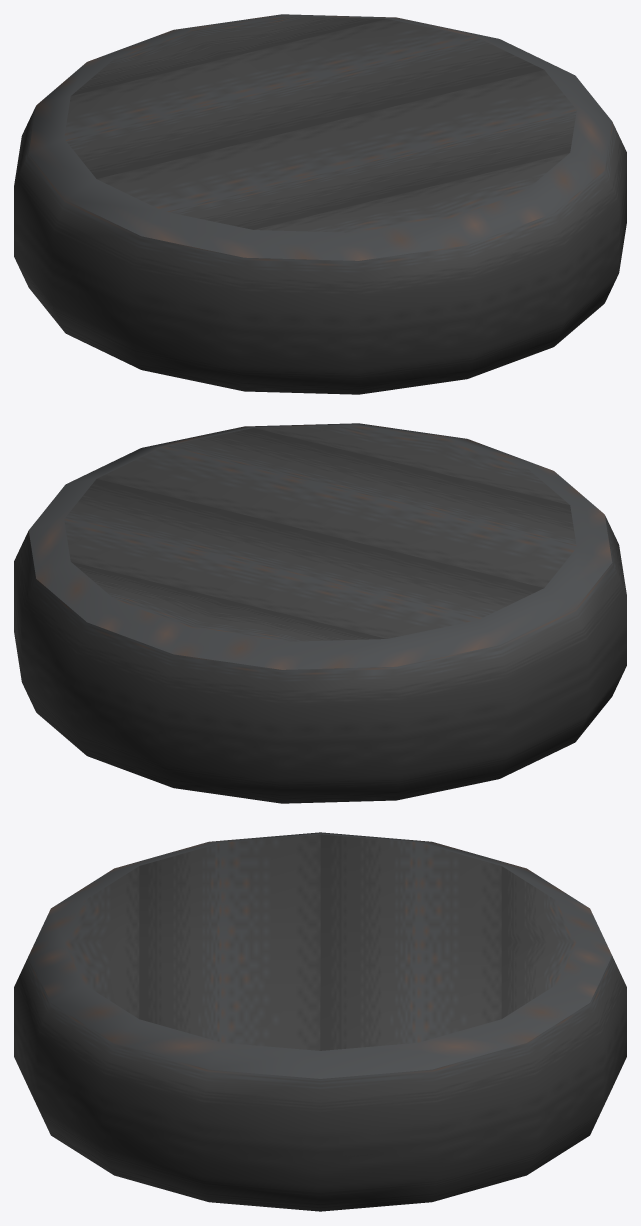
Rendered from food_ingredient_burger_trash.gltf.
The picture shows the model from 3 angles, top to bottom: view 1: azimuth 30°, elevation 25°; view 2: azimuth 150°, elevation 25°; view 3: azimuth 270°, elevation 25°; orthographic projection.
Parts seen in each view (by area): view 1: food_ingredient_burger_trash; view 2: food_ingredient_burger_trash; view 3: food_ingredient_burger_trash.
Part boxes in pixels (bbox=[...]): food_ingredient_burger_trash: bbox=[14, 14, 626, 394]; food_ingredient_burger_trash: bbox=[14, 423, 626, 803]; food_ingredient_burger_trash: bbox=[14, 832, 626, 1211].
Size of the model in its own units: 0.7 by 0.2 by 0.7.
1 material, 1 textured.
